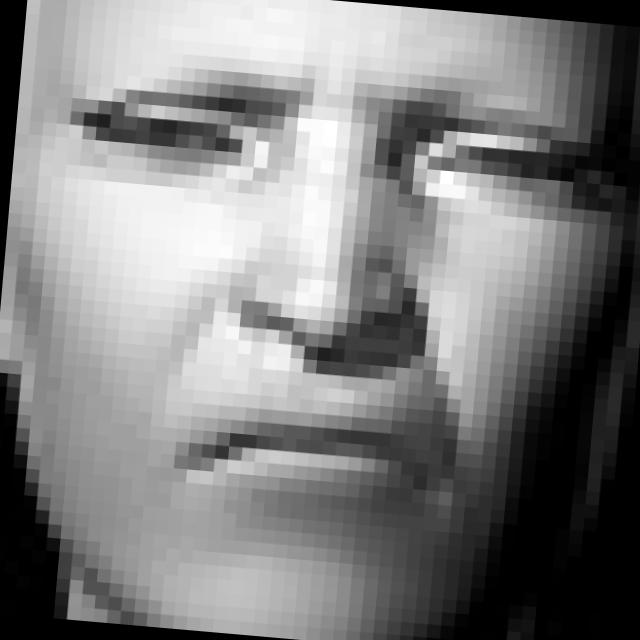disgust: (28, 27, 602, 560)
